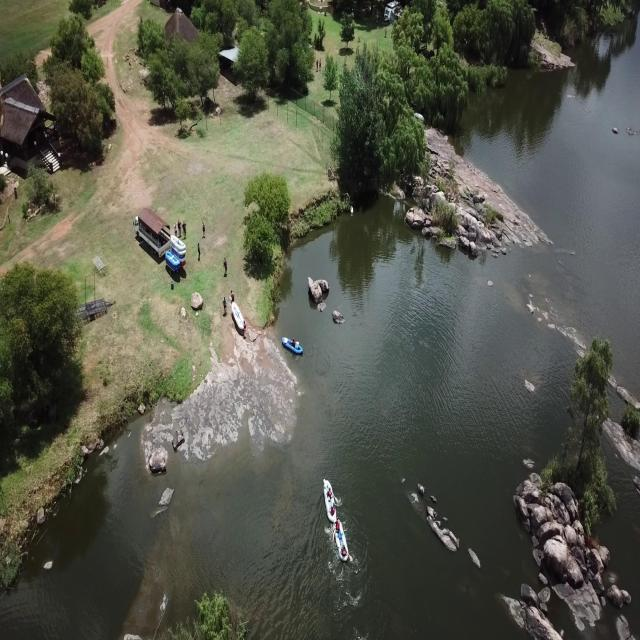kayak: (334, 514, 350, 562), (323, 480, 338, 527), (281, 333, 305, 361)
